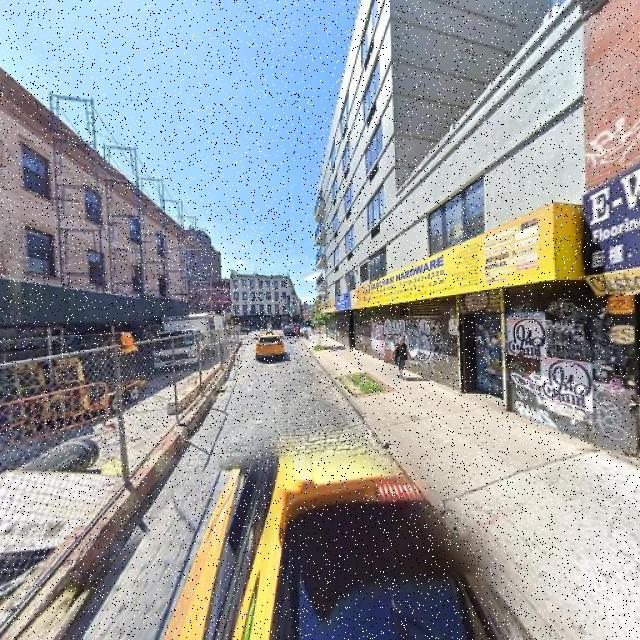Building: (327, 1, 583, 437), (1, 65, 187, 432), (589, 1, 640, 457)
